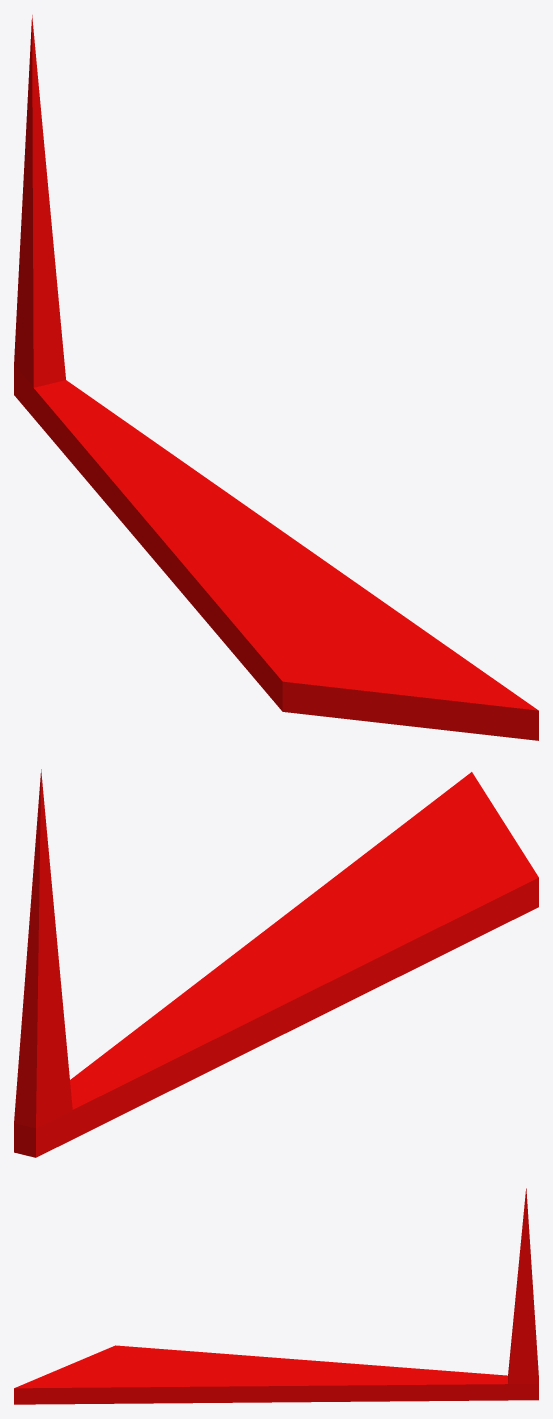
The model's file is ShoulderBones.dae.
3 views of the same model, one above another, from view 1: azimuth 30°, elevation 25°; view 2: azimuth 150°, elevation 25°; view 3: azimuth 270°, elevation 25° (orthographic). The views are drawn at different scales.
Visible parts, largest first — view 1: SketchUp; view 2: SketchUp; view 3: SketchUp.
Boxes of the visible parts, x1,y1,x2,y2 form: SketchUp: (14,15,538,740); SketchUp: (14,769,538,1157); SketchUp: (14,1188,538,1404).
Bounding box in the file's own units: 24.34 × 126 × 55.51.
